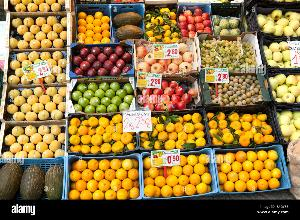apple: (69, 41, 133, 79), (70, 78, 136, 114), (135, 76, 199, 112), (255, 2, 300, 36), (264, 68, 300, 105), (176, 1, 210, 40), (262, 34, 300, 68), (272, 102, 300, 146)
apricot: (0, 122, 66, 158), (6, 49, 68, 85), (8, 13, 70, 48), (4, 86, 66, 120), (8, 0, 66, 12)
grape: (196, 36, 262, 74)
orange: (142, 149, 214, 199), (215, 146, 286, 195), (68, 156, 142, 200), (206, 108, 280, 148), (136, 108, 204, 150), (65, 114, 135, 150), (73, 8, 110, 44), (145, 4, 177, 42)
pomegranate: (136, 42, 195, 76)
